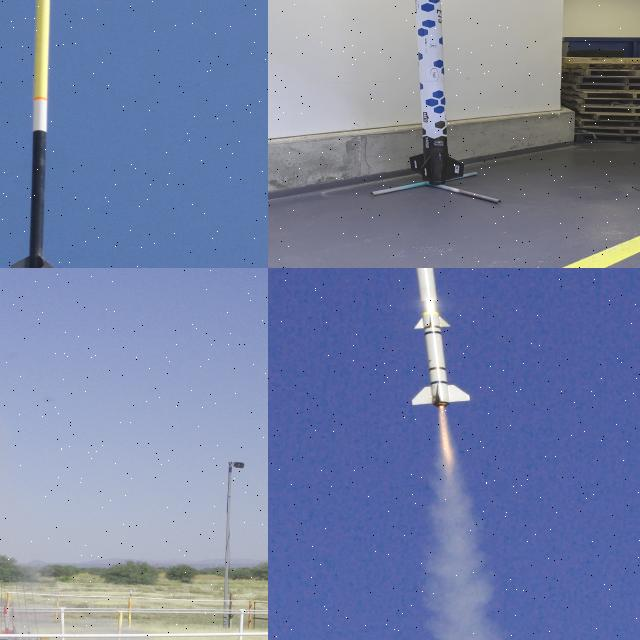Rocket: (12, 0, 62, 268), (409, 0, 464, 185), (409, 268, 473, 409), (1, 605, 11, 634), (11, 606, 19, 634)
